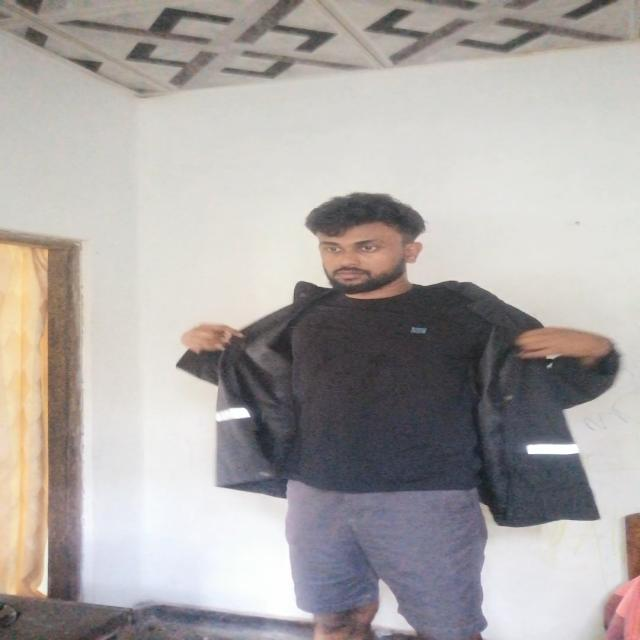Jacket_Wearer: (176, 272, 620, 548)
Person: (185, 187, 640, 640)
